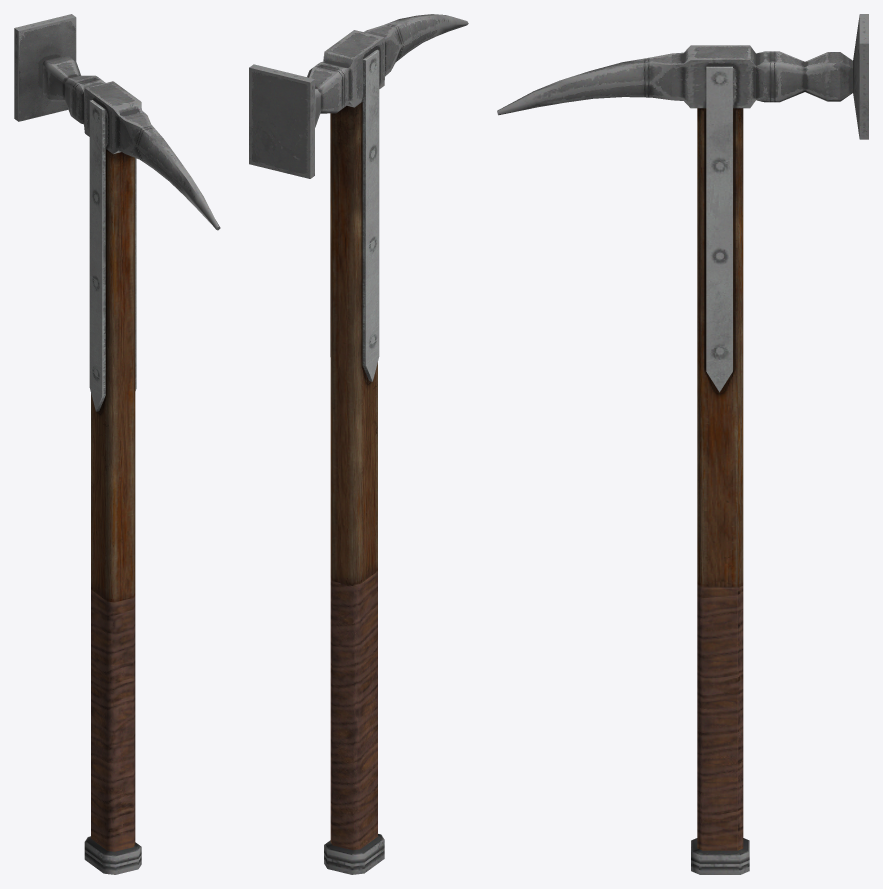
The model's file is Battle_Hammer_01.fbx.
The picture shows the model from 3 angles, left to right: view 1: azimuth 30°, elevation 25°; view 2: azimuth 150°, elevation 25°; view 3: azimuth 270°, elevation 25°; orthographic projection. The views are drawn at different scales.
Parts seen in each view (by area): view 1: Battle_Hammer_01_LOD0; view 2: Battle_Hammer_01_LOD0; view 3: Battle_Hammer_01_LOD0.
Boxes of the visible parts, box(x1,y1,x2,y2) form: Battle_Hammer_01_LOD0: box(14, 14, 220, 874); Battle_Hammer_01_LOD0: box(249, 14, 468, 874); Battle_Hammer_01_LOD0: box(497, 14, 868, 874).
Size of what is drawn, in the model's own units: 5.11 by 67.08 by 27.02.
